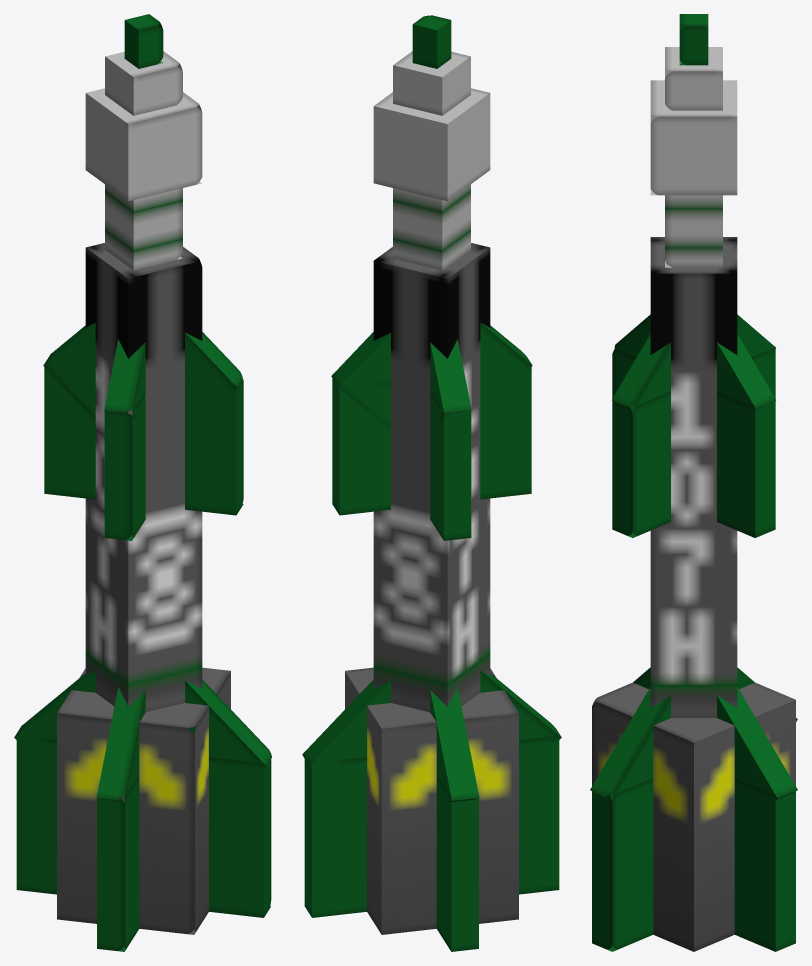
Rendered from missile_homing.obj.
3 renders of one model, left to right at view 1: azimuth 30°, elevation 25°; view 2: azimuth 150°, elevation 25°; view 3: azimuth 270°, elevation 25°, orthographic.
Parts seen in each view (by area): view 1: MAIN_MODULE, MOTOR_MODULE, WING_2A, WING_4A, WARHEAD_2, WING_1A, WING_4B, WARHEAD_1, WING_3A, WING_2B, WARHEAD_3, WING_1B (+2 smaller); view 2: MAIN_MODULE, MOTOR_MODULE, WING_1A, WING_3A, WARHEAD_2, WING_2A, WING_3B, WARHEAD_1, WING_4A, WING_1B, WARHEAD_3, WING_2B (+2 smaller); view 3: MAIN_MODULE, MOTOR_MODULE, WING_1A, WING_2A, WARHEAD_2, WING_3A, WING_4A, WARHEAD_1, WING_2B, WING_1B, WING_4B, WING_3B (+2 smaller).
Part boxes in pixels (x1,y1,x2,y2): MAIN_MODULE: [85, 243, 202, 712]; MOTOR_MODULE: [57, 667, 230, 934]; WING_2A: [16, 735, 271, 917]; WING_4A: [44, 367, 243, 515]; WARHEAD_2: [85, 88, 202, 201]; WING_1A: [97, 774, 139, 951]; WING_4B: [43, 322, 242, 430]; WARHEAD_1: [105, 184, 182, 270]; WING_3A: [104, 391, 145, 540]; WING_2B: [14, 670, 271, 767]; WARHEAD_3: [105, 51, 182, 115]; WING_1B: [96, 687, 145, 803]; MAIN_MODULE: [373, 243, 490, 712]; MOTOR_MODULE: [345, 667, 518, 934]; WING_1A: [304, 735, 559, 917]; WING_3A: [332, 367, 531, 515]; WARHEAD_2: [373, 88, 490, 201]; WING_2A: [436, 774, 478, 951]; WING_3B: [331, 322, 532, 430]; WARHEAD_1: [393, 184, 470, 270]; WING_4A: [430, 391, 471, 540]; WING_1B: [302, 670, 561, 767]; WARHEAD_3: [393, 51, 470, 115]; WING_2B: [430, 687, 479, 802]; MAIN_MODULE: [650, 237, 737, 717]; MOTOR_MODULE: [592, 682, 795, 951]; WING_1A: [734, 778, 795, 951]; WING_2A: [592, 778, 653, 951]; WARHEAD_2: [650, 80, 737, 195]; WING_3A: [612, 349, 775, 537]; WING_4A: [612, 349, 775, 537]; WARHEAD_1: [665, 195, 722, 267]; WING_2B: [590, 667, 797, 800]; WING_1B: [633, 667, 797, 799]; WING_4B: [612, 314, 775, 413]; WING_3B: [614, 314, 775, 408].
Size of the model in its own units: 0.9009 by 4.25 by 0.9009.
